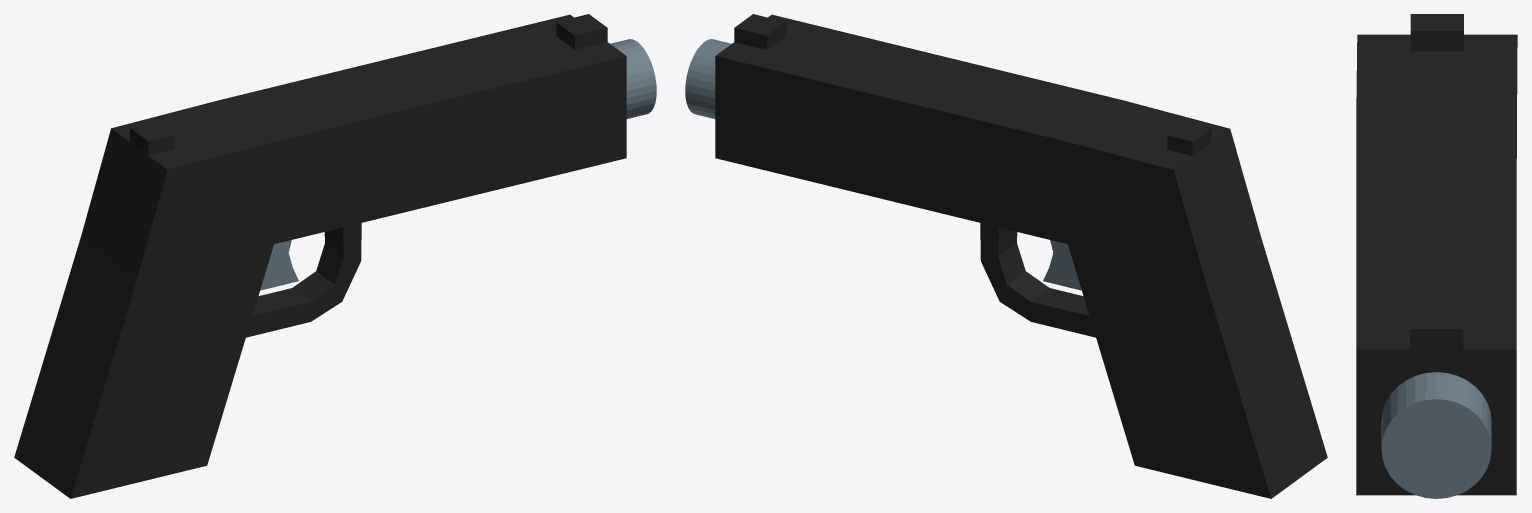
The model's file is Pistol.glb.
3 renders of one model, left to right at view 1: azimuth 30°, elevation 25°; view 2: azimuth 150°, elevation 25°; view 3: azimuth 270°, elevation 25°, orthographic. The views are drawn at different scales.
Visible parts, largest first — view 1: Cube, Cylinder; view 2: Cube, Cylinder; view 3: Cube, Cylinder.
Boxes of the visible parts, x1,y1,x2,y2 form: Cube: (14,14,626,498); Cylinder: (610,39,656,118); Cube: (715,14,1327,498); Cylinder: (685,39,731,118); Cube: (1356,14,1517,495); Cylinder: (1381,372,1491,498).
Size of the model in its own units: 0.3042 by 0.1572 by 0.0503.
